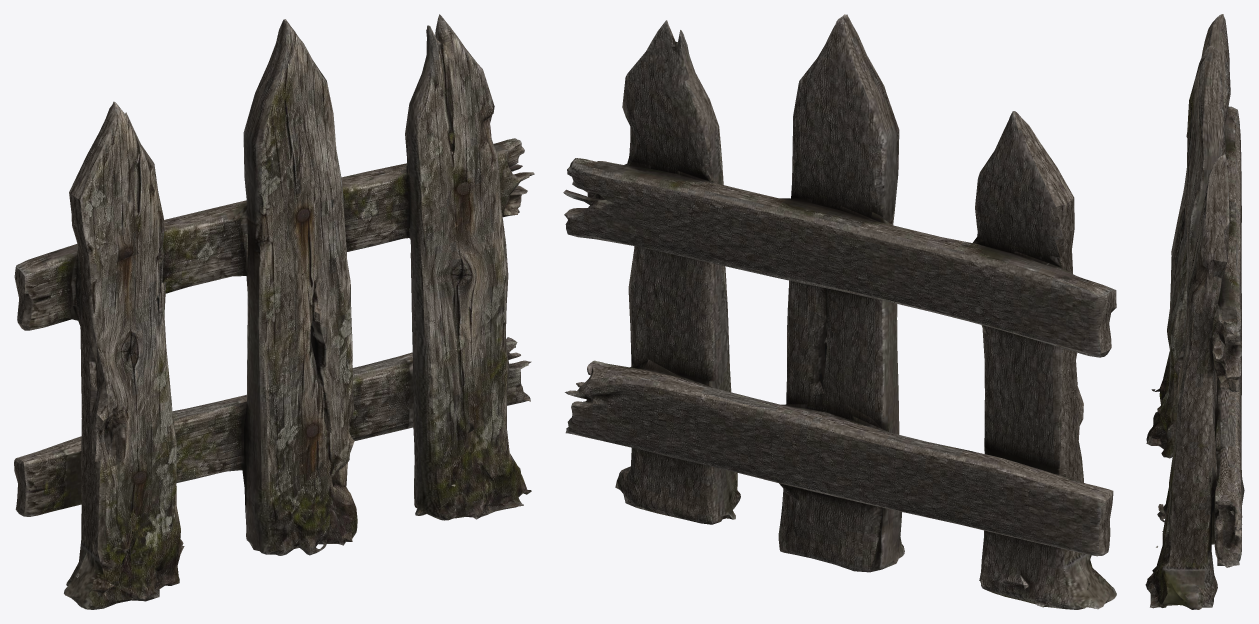
The picture shows the model from 3 angles, left to right: view 1: azimuth 30°, elevation 25°; view 2: azimuth 150°, elevation 25°; view 3: azimuth 270°, elevation 25°; orthographic projection. The views are drawn at different scales.
Parts seen in each view (by area): view 1: m2.glb; view 2: m2.glb; view 3: m2.glb.
Part boxes in pixels (bbox=[...]): m2.glb: bbox=[14, 14, 534, 609]; m2.glb: bbox=[563, 14, 1116, 609]; m2.glb: bbox=[1145, 14, 1244, 609].
Size of the model in its own units: 1.89 by 1.83 by 0.3462.
Materials: 1 (1 with a texture image).
